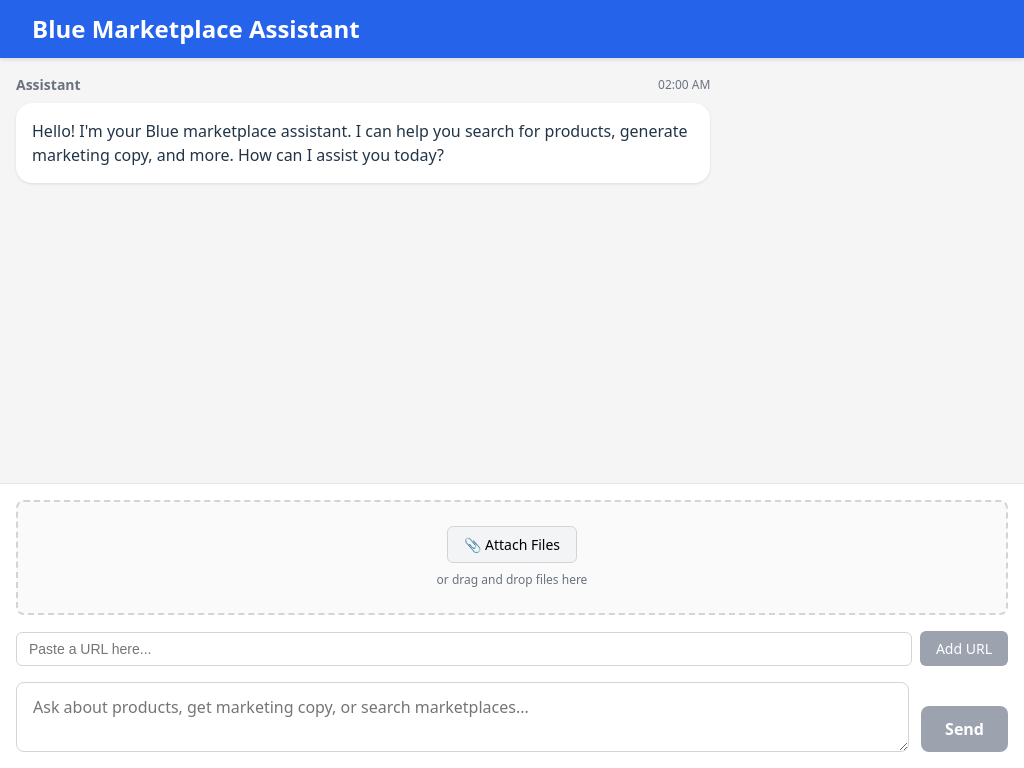
Test: App › handles marketing copy requests
The image size is (1024, 768).
Type "create marketing copy for laptops" into the text box named "Message input" at [463, 717], box left=16, top=682, right=909, bottom=752
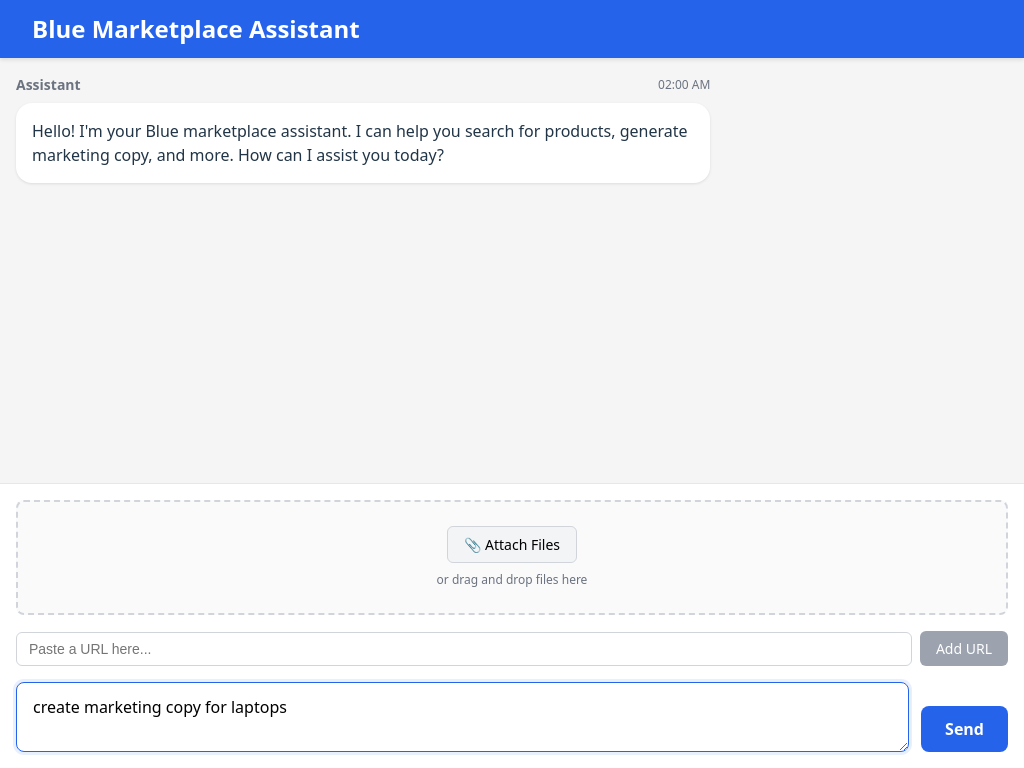
Click the button with aria-label "Send message" at [965, 729], box left=921, top=706, right=1008, bottom=752
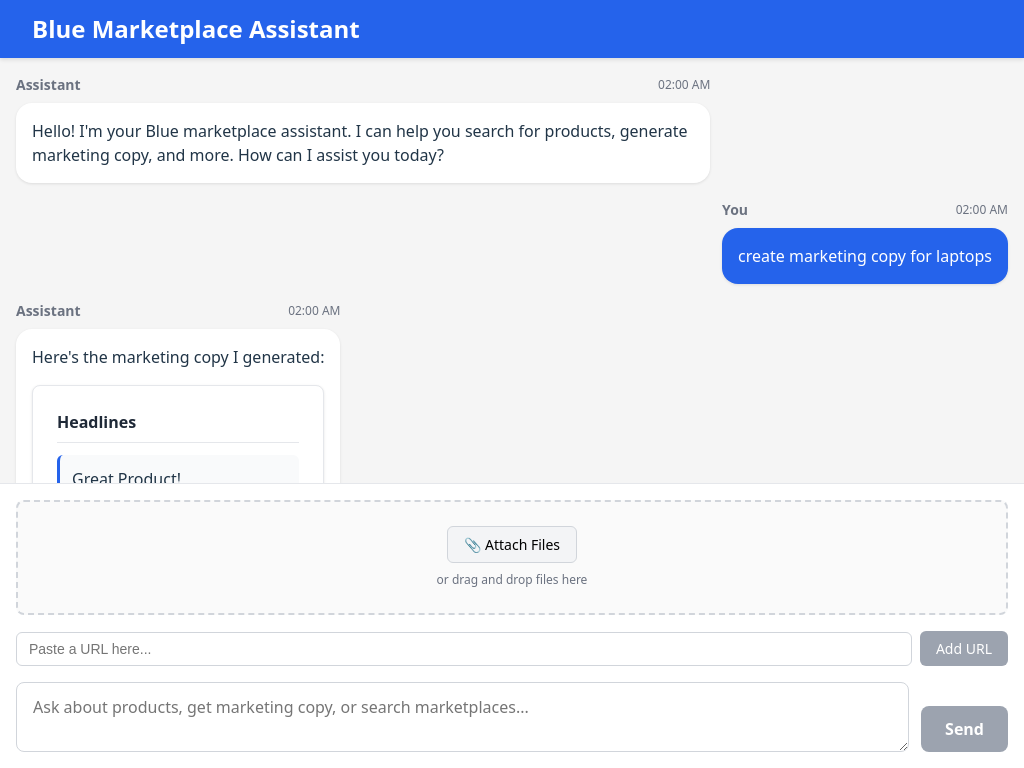
Expected: the text "create marketing copy for laptops" is shown, left=738, top=244, right=992, bottom=268
Expected: the text "Here's the marketing copy I generated:" is shown, left=32, top=345, right=324, bottom=369
Expected: the list item "Great Product!" is shown, left=72, top=468, right=181, bottom=483
